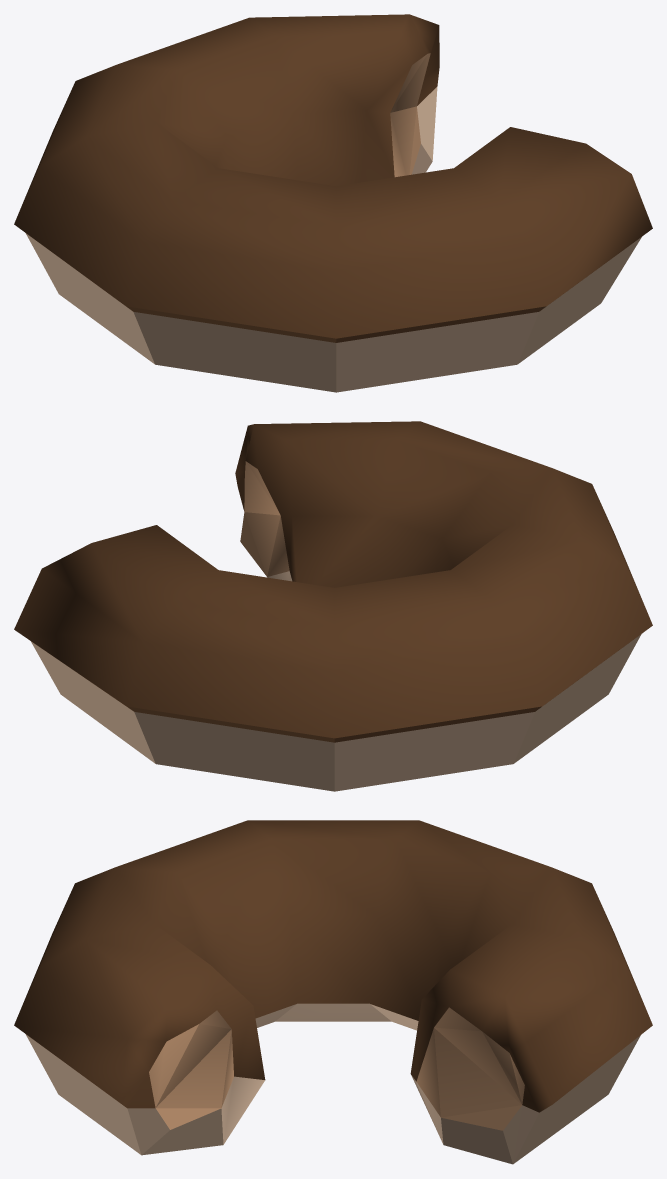
The model's file is Simple_Donut_(alt).fbx.
3 views of the same model, one above another, from view 1: azimuth 30°, elevation 25°; view 2: azimuth 150°, elevation 25°; view 3: azimuth 270°, elevation 25° (orthographic).
Visible parts, largest first — view 1: Simple_Donut_(alt); view 2: Simple_Donut_(alt); view 3: Simple_Donut_(alt).
Boxes of the visible parts, x1=… form: Simple_Donut_(alt): x1=14, y1=14, x2=652, y2=392; Simple_Donut_(alt): x1=14, y1=421, x2=652, y2=791; Simple_Donut_(alt): x1=14, y1=820, x2=652, y2=1164.
Size of the model in its own units: 0.1322 by 0.1536 by 0.0474.
